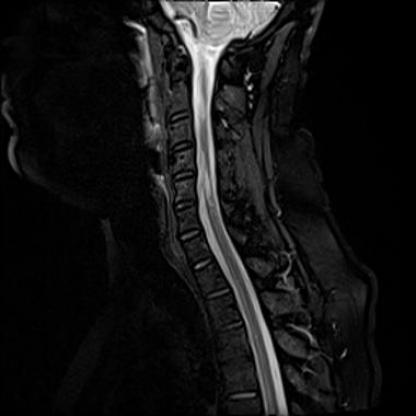Disc Bulgerotation: (177, 229, 202, 243), (170, 140, 194, 153)
